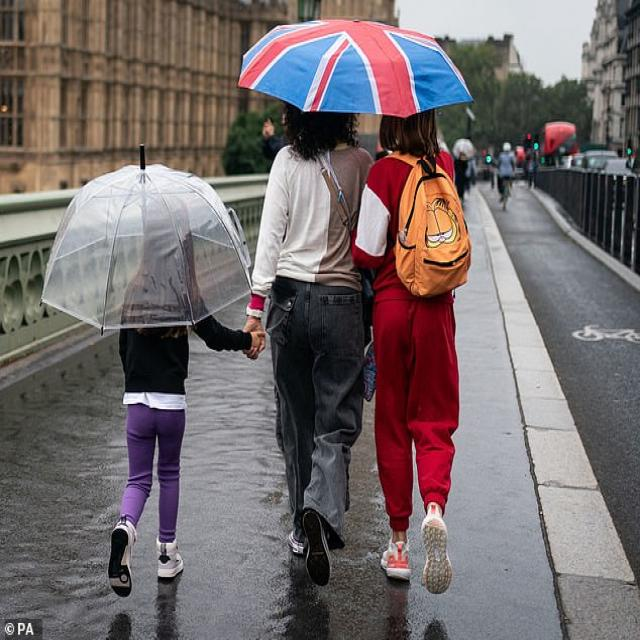Walking: (247, 101, 372, 579), (354, 76, 465, 598), (113, 204, 257, 594), (234, 17, 474, 222), (525, 152, 536, 188)
human: (356, 147, 456, 294), (121, 202, 201, 331), (281, 103, 358, 164), (382, 108, 440, 157), (496, 142, 516, 204)
